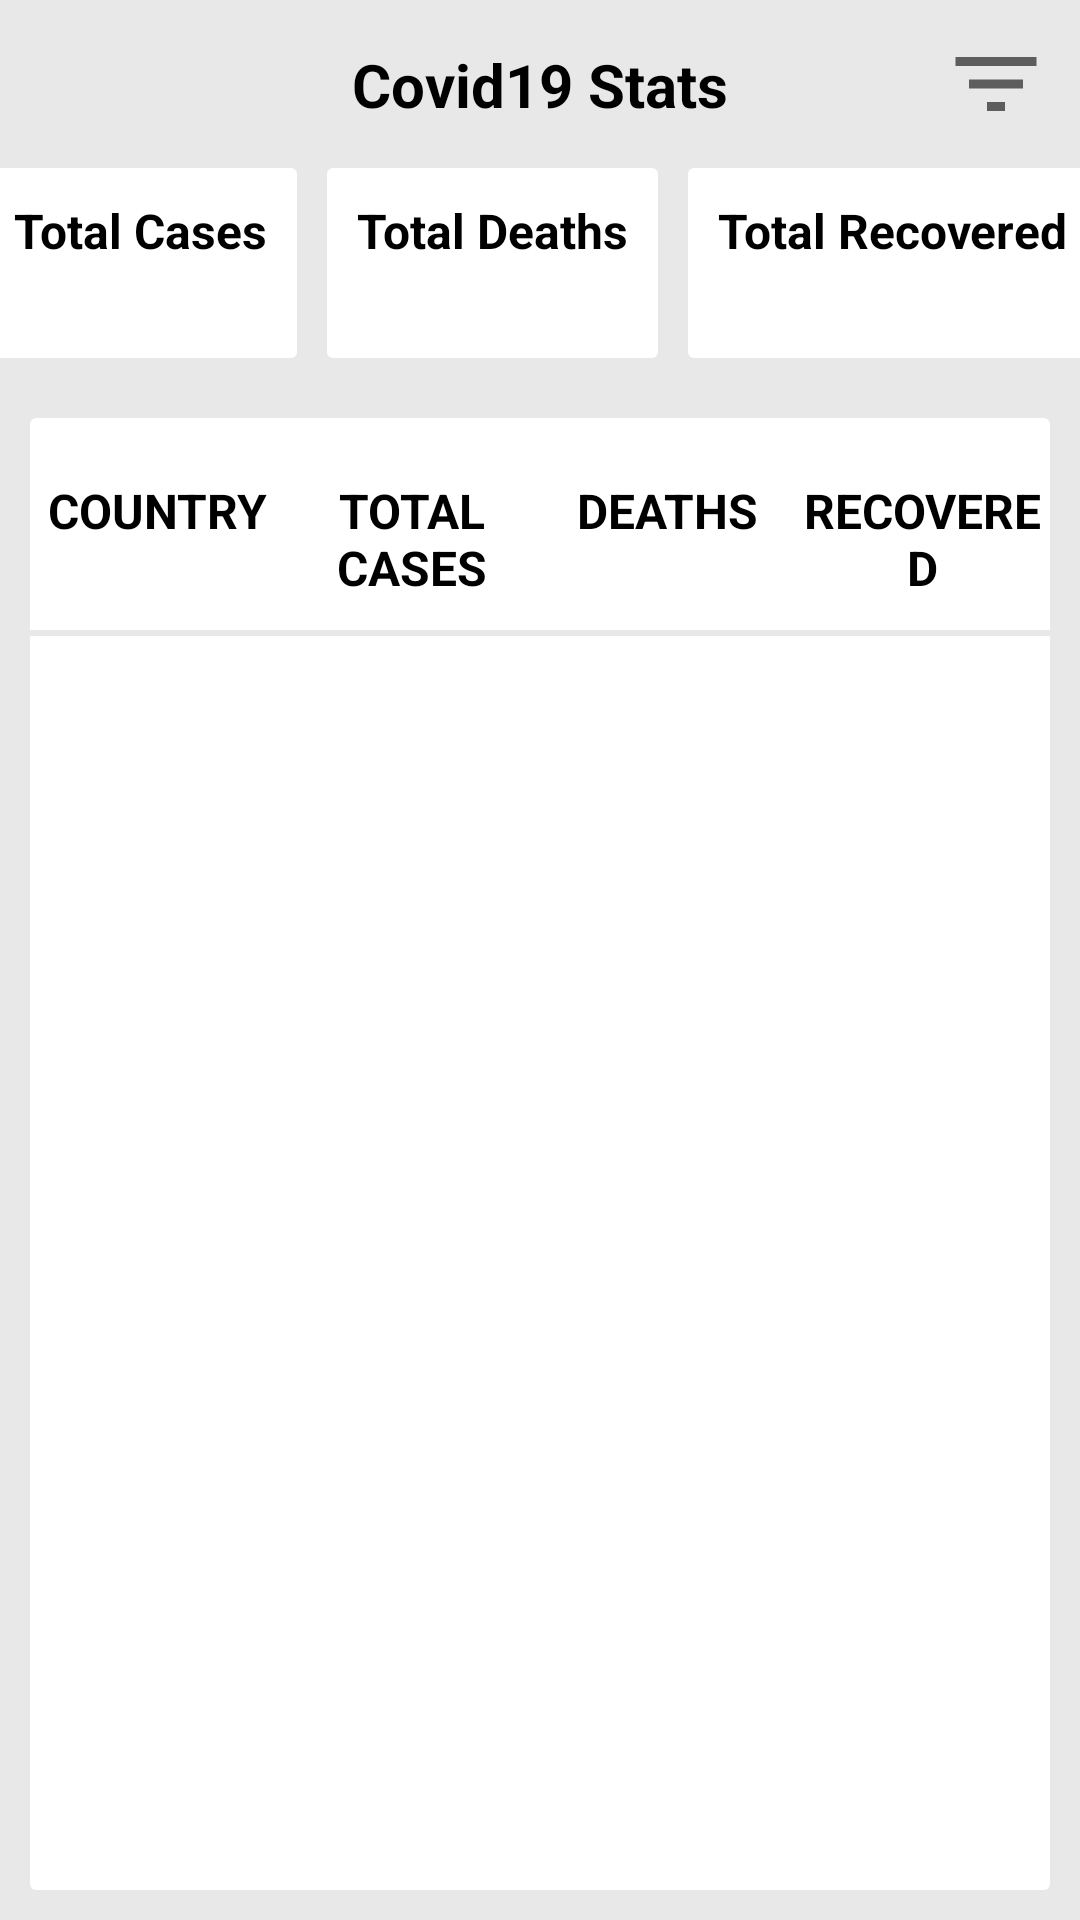

Icon click points for this 1080×1920 phone screenshot, format (x,y):
filter list: (996,84)
